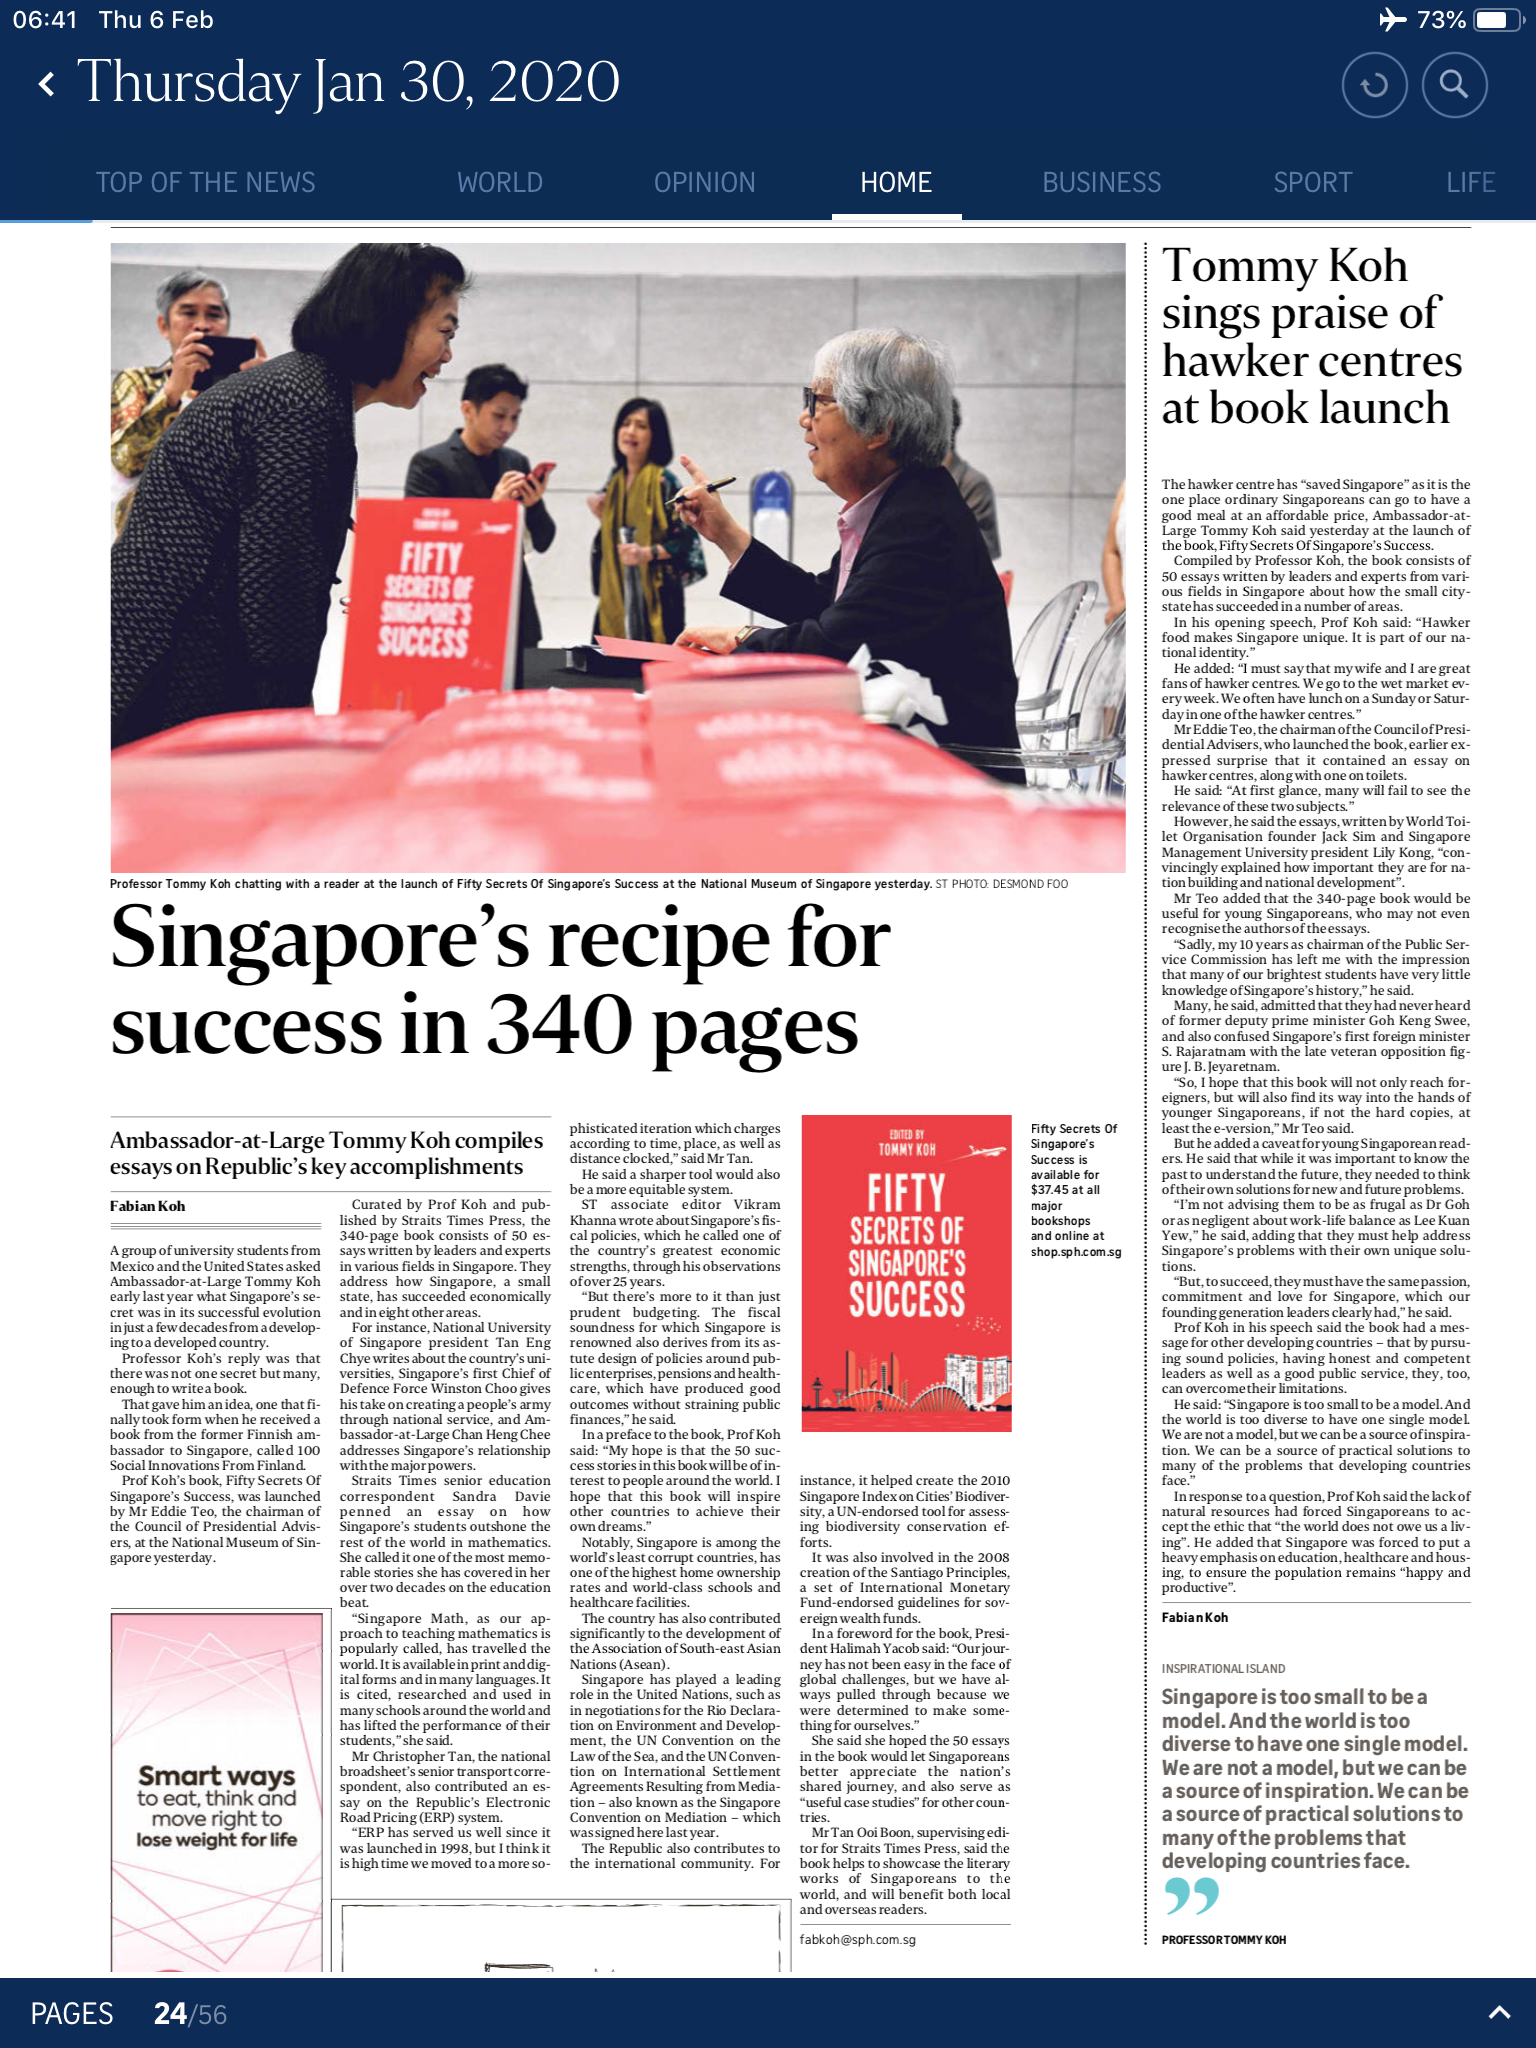Byline: (108, 1192, 190, 1213)
Headline: (110, 901, 889, 1071), (1165, 244, 1460, 424)
Illustration: (103, 874, 1078, 897), (1029, 1122, 1128, 1263)
Image: (108, 247, 1125, 872), (110, 1613, 319, 1977), (803, 1118, 1013, 1429)
Text: (1158, 474, 1476, 1953), (568, 1113, 784, 1879), (334, 1198, 557, 1874), (799, 1474, 1013, 1917), (106, 1238, 323, 1572)
